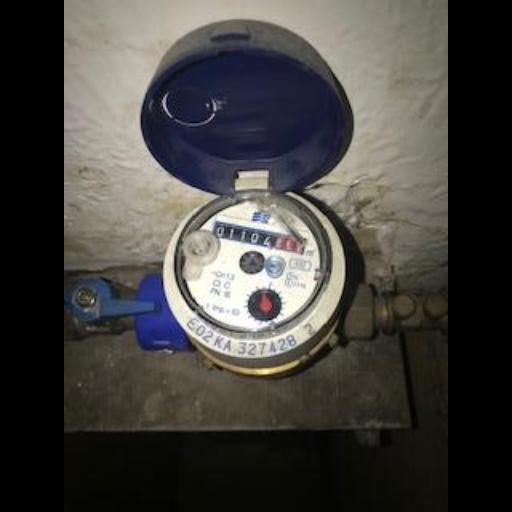0: (213, 220, 229, 241), (246, 228, 262, 247)
1: (226, 223, 240, 242), (235, 225, 249, 244), (282, 237, 295, 253)
4: (259, 231, 275, 250)
border_water_meter_number: (210, 217, 311, 260)
